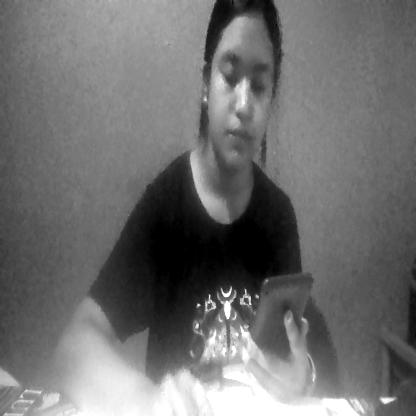Normal: (204, 5, 278, 174)
